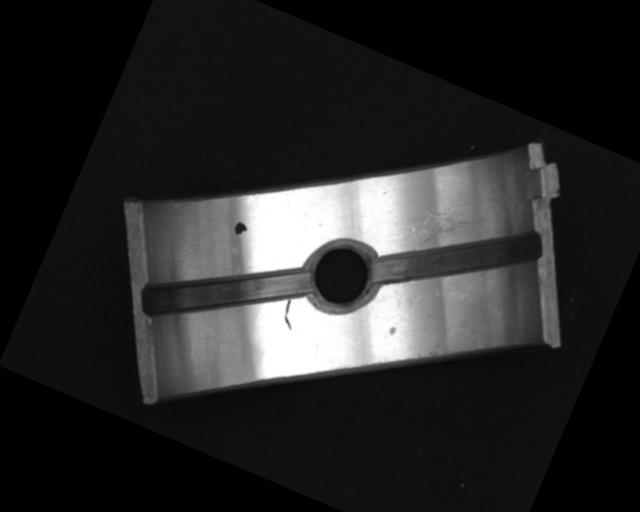blot: (230, 220, 250, 240)
bruise: (387, 323, 398, 336)
gap: (367, 179, 547, 337), (138, 218, 310, 365)
hole: (294, 232, 387, 323)
nick: (277, 297, 302, 330)
scratch: (406, 191, 492, 271)
